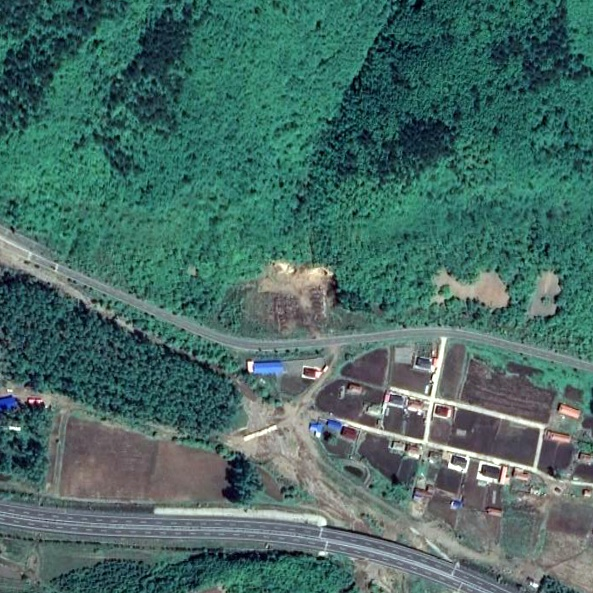slope: (223, 397, 368, 533), (241, 254, 344, 333)
